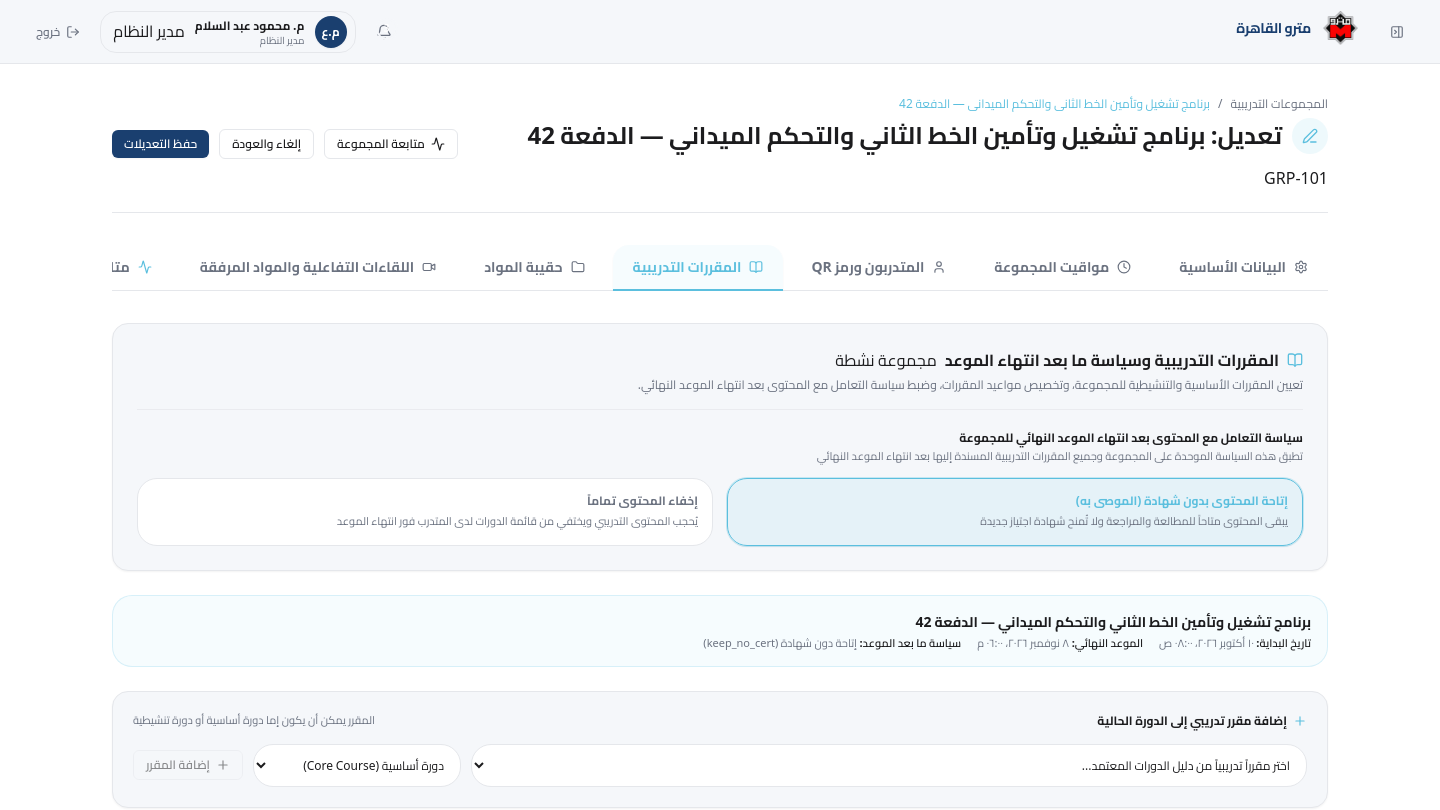
Test: Increment 10 — Phase 5: Course Assignment, Renewal Schedules & Date Overrides › 4. Add/Remove Courses and API Persistence › adds a course from catalog, rejects duplicates, and saves assignments to server
Select "تشغيل وصيانة القطارات (CRS003) — المستوى: متقدم" in the dropdown with test id "select-course-to-add" at (889, 765), box [471,744,1307,787]
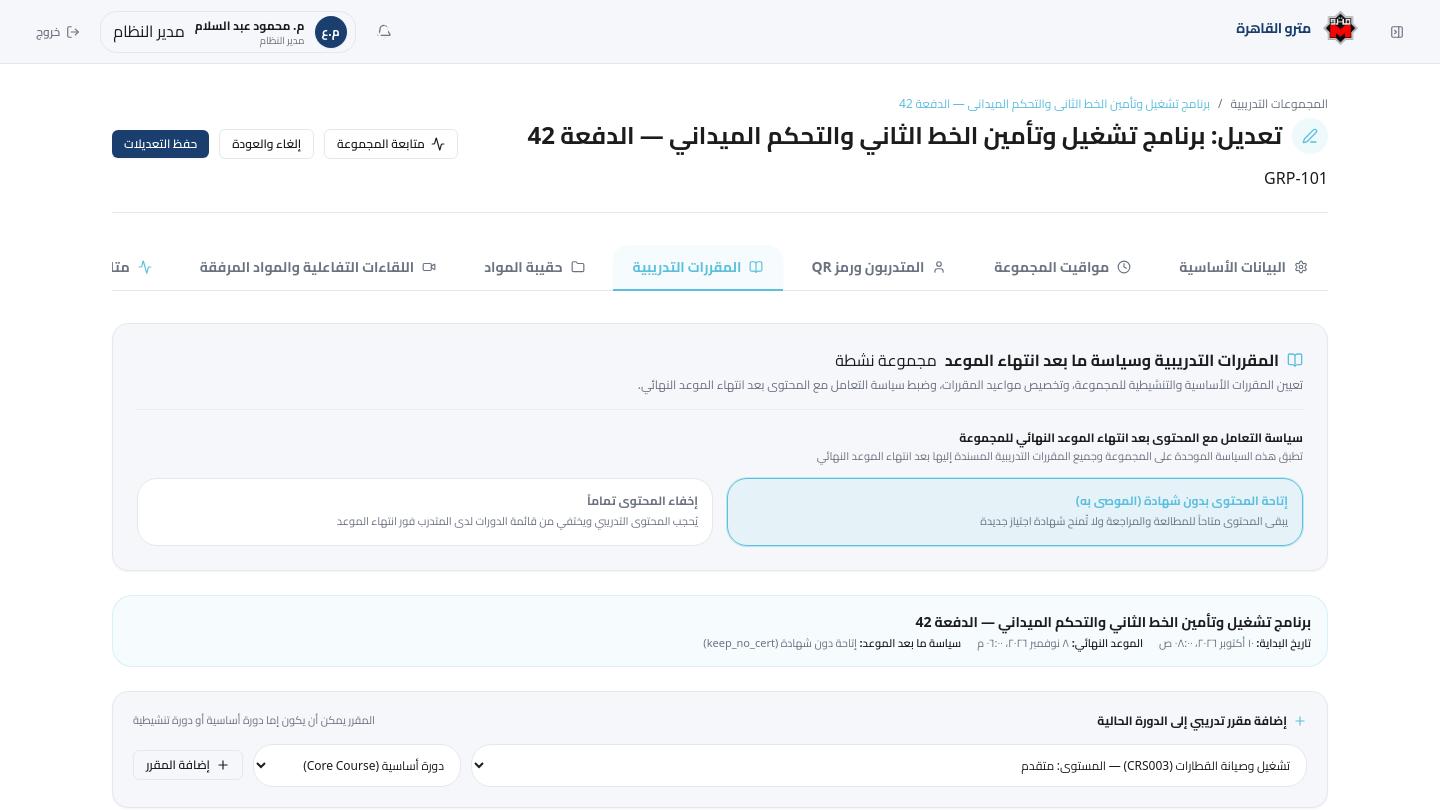
# Select role reminder
Select "دورة تنشيطية (Reminder Course)" in the dropdown with test id "select-role-to-add" at (357, 765), box [253,744,461,787]
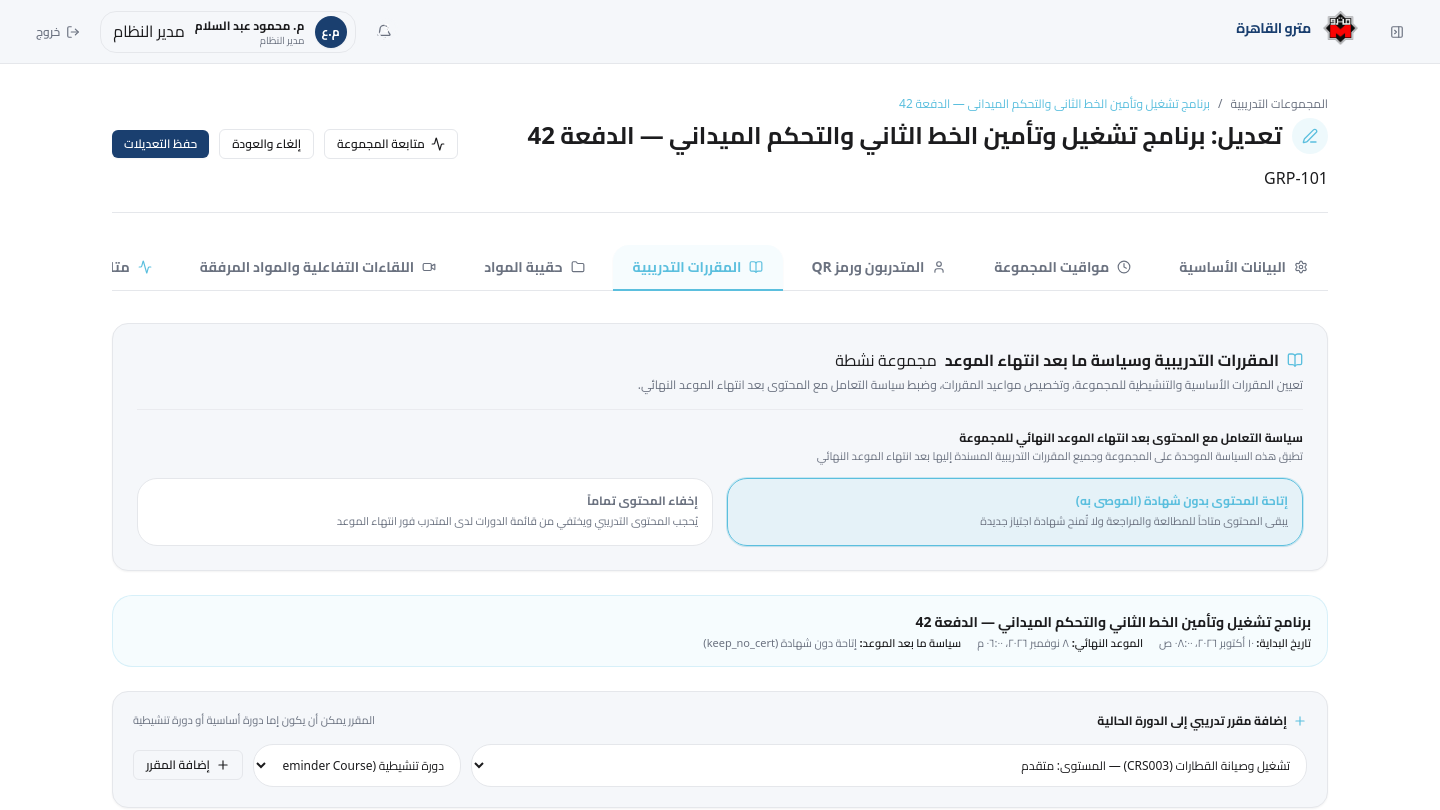
# Click Add
Click the button with test id "add-course-btn".
click(188, 765)  # box [133,750,243,780]
(page scrolled)
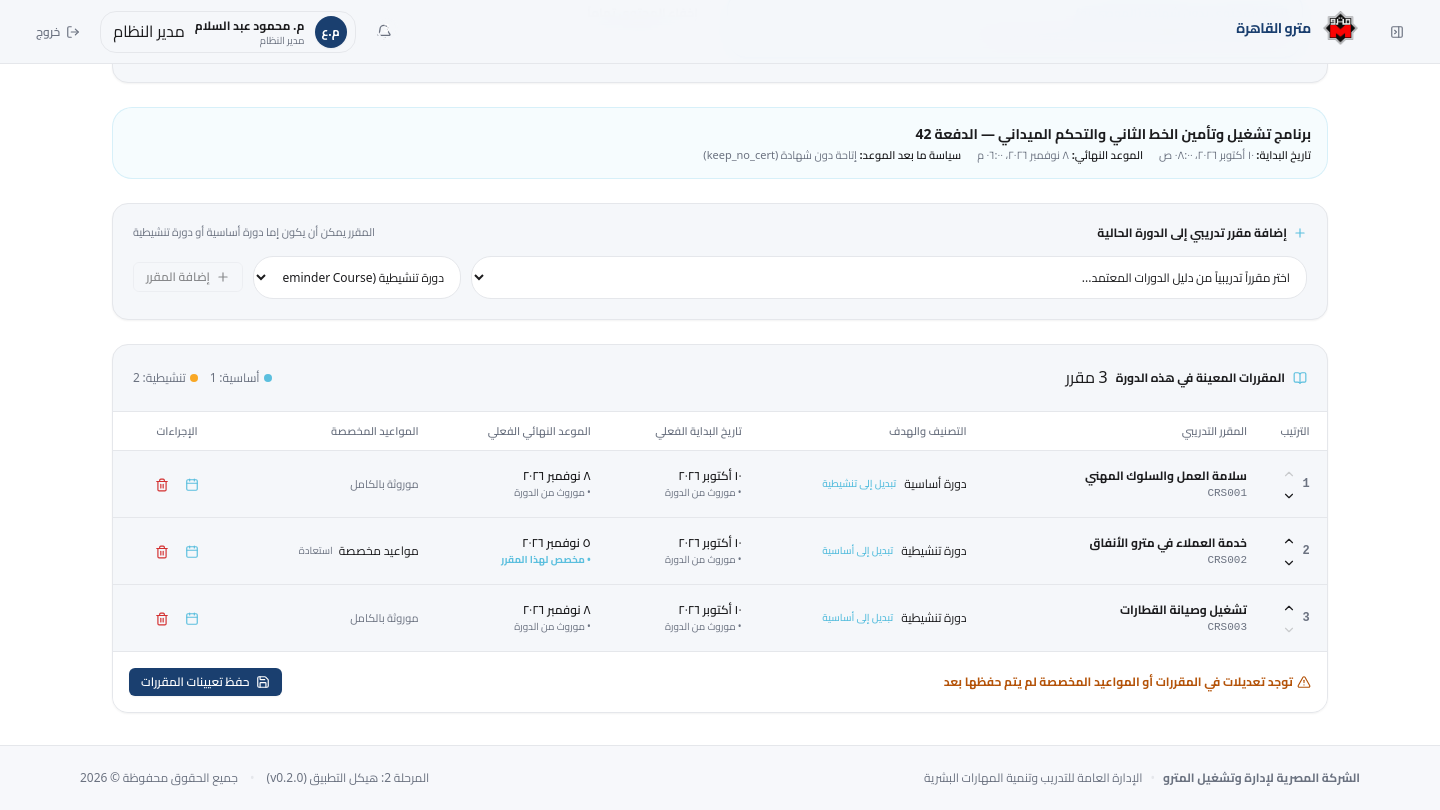
# Save assignments
Click the button with test id "save-cycle-courses-btn".
click(205, 682)  # box [129,668,282,696]
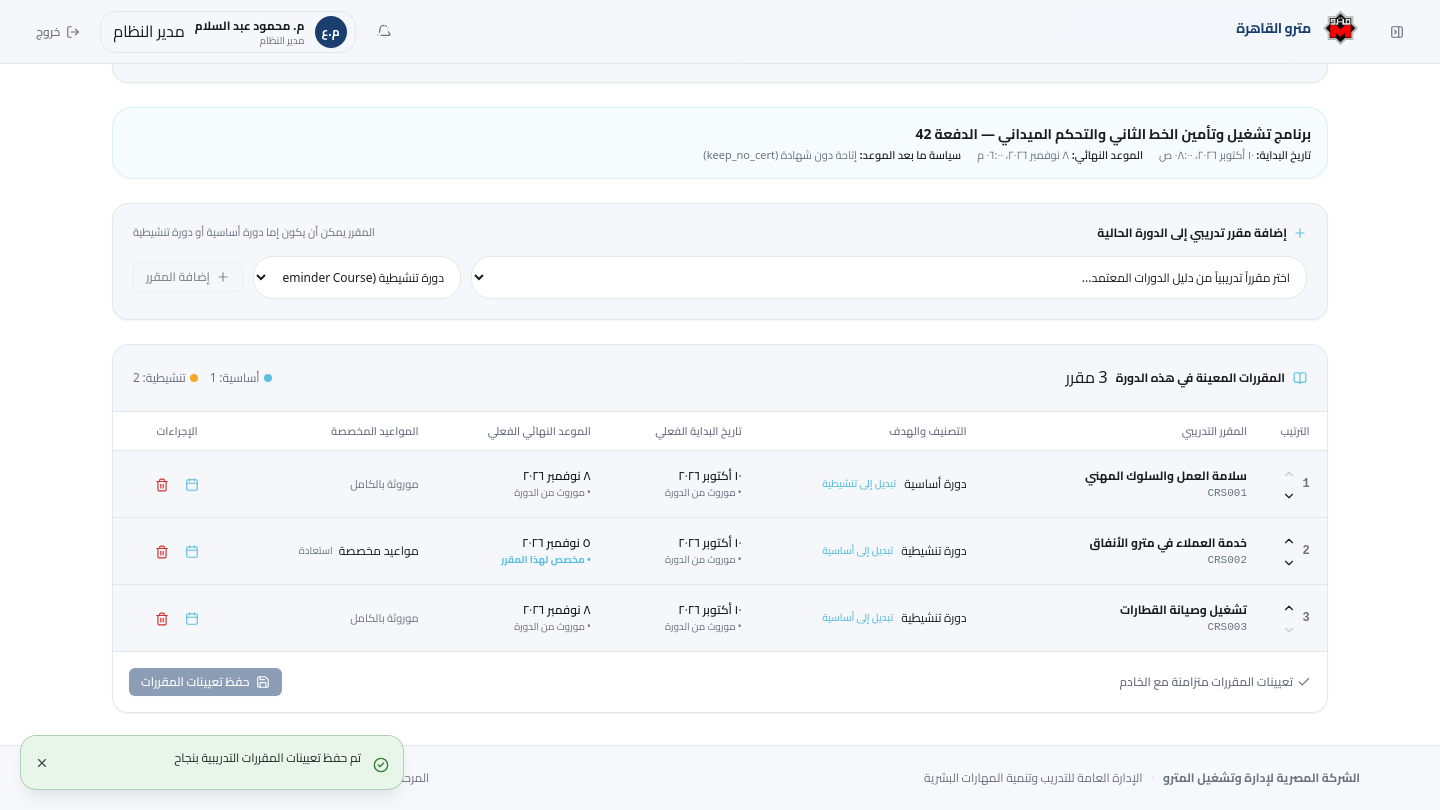
Expected: the text "تعيينات المقررات متزامنة مع الخادم" is shown, [1120,674,1293,690]
